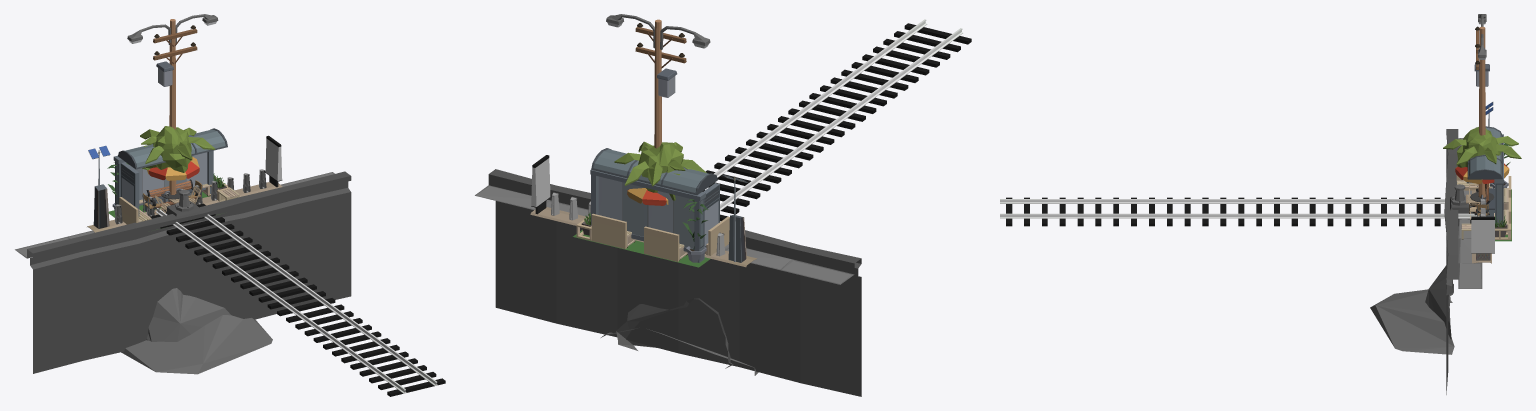
The model's file is street-props.glb.
3 renders of one model, left to right at view 1: azimuth 30°, elevation 25°; view 2: azimuth 150°, elevation 25°; view 3: azimuth 270°, elevation 25°, orthographic. The views are drawn at different scales.
Parts seen in each view (by area): view 1: sea_wall, track, transit-shelter-1, bike_share, utility_pole, parklet, tree-01, outdoor_dining, palmtree, street-light-double; view 2: sea_wall, track, transit-shelter-1, parklet, bike_share, utility_pole, palmtree, tree-01, street-light-double, outdoor_dining; view 3: track, sea_wall, transit-shelter-1, bike_share, parklet, utility_pole, palmtree, tree-01, outdoor_dining.
Boxes of the visible parts, x1,y1,x2,y2 form: sea_wall: (15, 171, 351, 374); track: (150, 203, 445, 396); transit-shelter-1: (113, 128, 227, 216); bike_share: (87, 135, 282, 232); utility_pole: (153, 19, 197, 201); parklet: (107, 162, 239, 229); tree-01: (142, 126, 192, 205); outdoor_dining: (142, 157, 202, 215); palmtree: (140, 127, 215, 163); street-light-double: (127, 14, 218, 45); sea_wall: (475, 169, 861, 396); track: (702, 19, 971, 221); transit-shelter-1: (590, 148, 719, 262); parklet: (573, 199, 729, 267); bike_share: (530, 155, 757, 267); utility_pole: (635, 19, 686, 148); palmtree: (614, 141, 706, 186); tree-01: (638, 142, 683, 200); street-light-double: (606, 14, 710, 49); outdoor_dining: (627, 188, 668, 205); track: (1000, 197, 1479, 226); sea_wall: (1370, 129, 1482, 394); transit-shelter-1: (1466, 126, 1503, 226); bike_share: (1471, 102, 1494, 263); parklet: (1456, 142, 1512, 241); utility_pole: (1474, 26, 1489, 197); palmtree: (1443, 130, 1521, 165); tree-01: (1457, 127, 1501, 204); outdoor_dining: (1455, 163, 1509, 216).
Bounding box in the file's own units: 15 × 13.83 × 21.91.
Materials: 1 (1 with a texture image).
